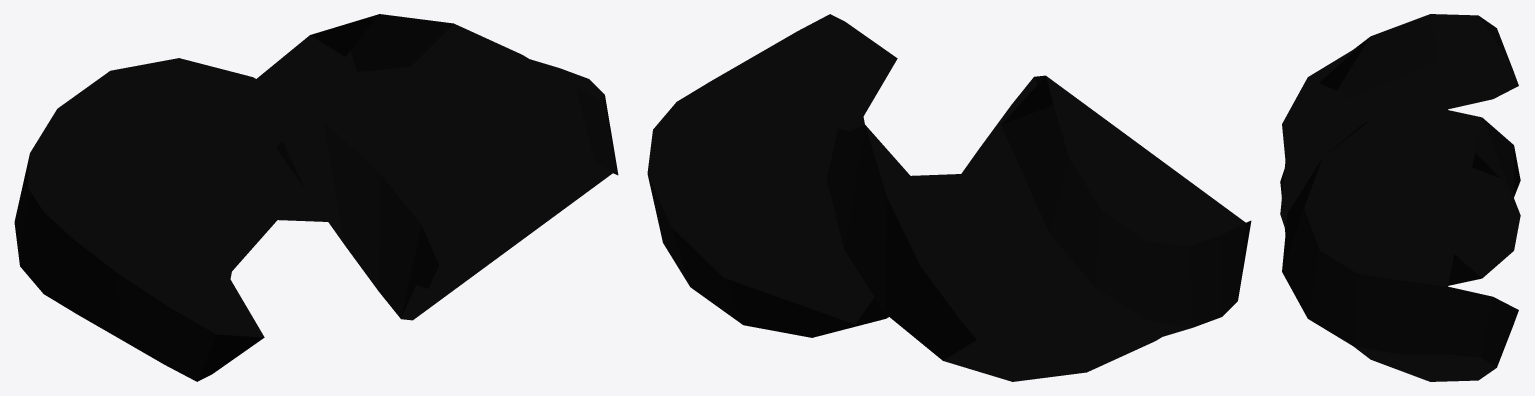
Rendered from woman_scream_wave2.glb.
3 views of the same model, side by side, from view 1: azimuth 30°, elevation 25°; view 2: azimuth 150°, elevation 25°; view 3: azimuth 270°, elevation 25° (orthographic). The views are drawn at different scales.
Parts seen in each view (by area): view 1: green sparkle_woman; view 2: green sparkle_woman; view 3: green sparkle_woman.
Boxes of the visible parts, x1,y1,x2,y2 form: green sparkle_woman: (14, 14, 618, 381); green sparkle_woman: (647, 14, 1251, 381); green sparkle_woman: (1280, 14, 1520, 381).
Bounding box in the file's own units: 15.53 × 7.94 × 6.6.
1 material, 1 textured.
